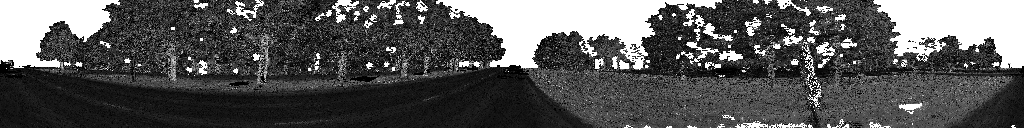traffic_pole: (900, 59, 906, 74)
